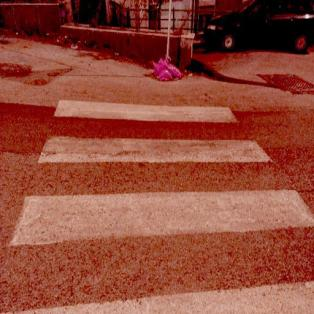Paso de Cebra: (30, 96, 278, 174)
